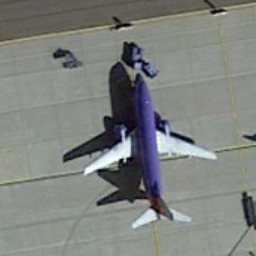Airplane: (74, 69, 228, 238)
